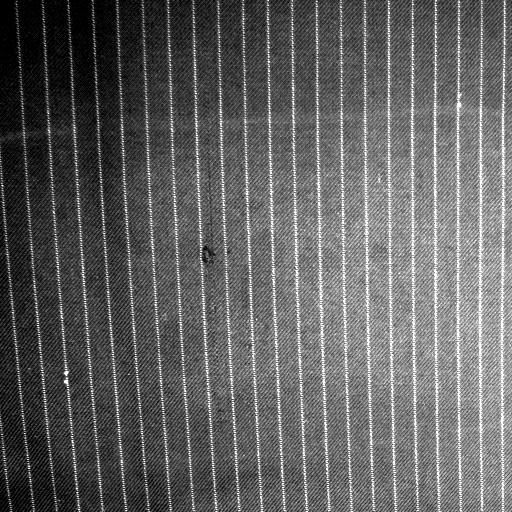fabric_hole: (195, 238, 217, 278)
